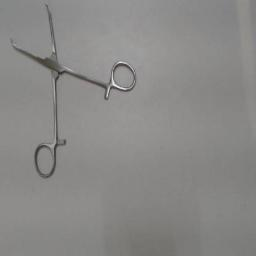Allis Tissue Forceps: (6, 2, 138, 182)
